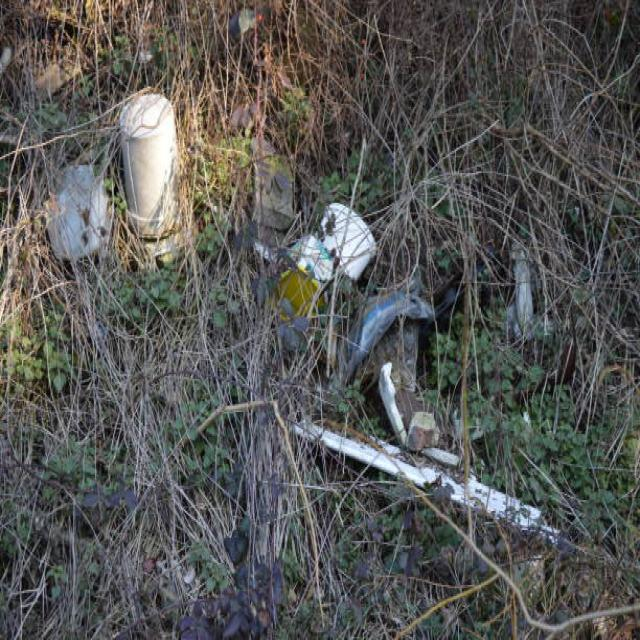plastic: (117, 109, 198, 239)
